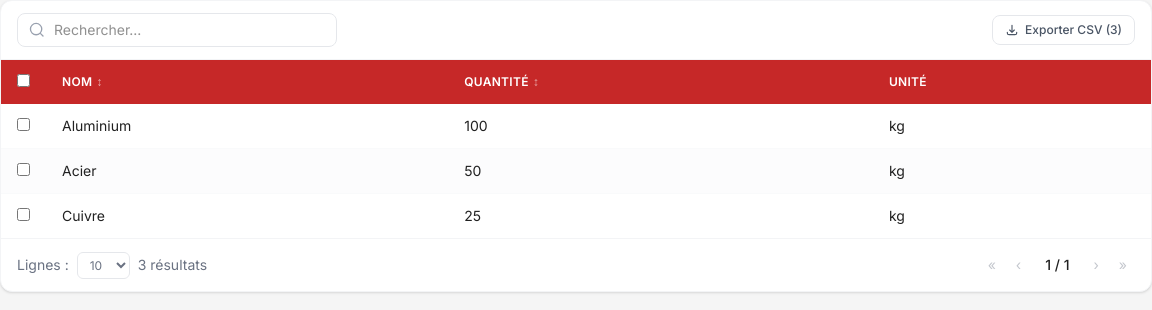
Scenario: Test 6 — filtre recherche réduit les résultats en temps réel › filtre à "Alu" → seul Aluminium visible
Type "Alu" into the search field with placeholder "Rechercher...". click: (177, 30)
box: [17,13,337,47]
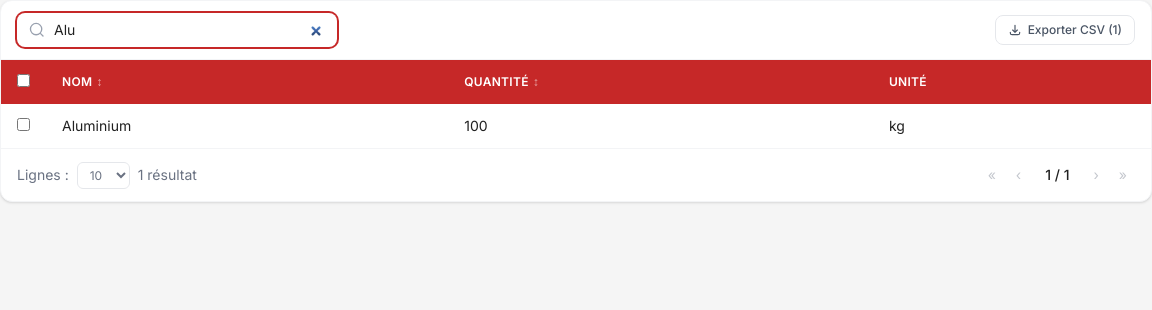
Expected: the text "Aluminium" is shown, [46,104,448,148]
Result: the text "Acier" is gone
Result: the text "Cuivre" is gone
